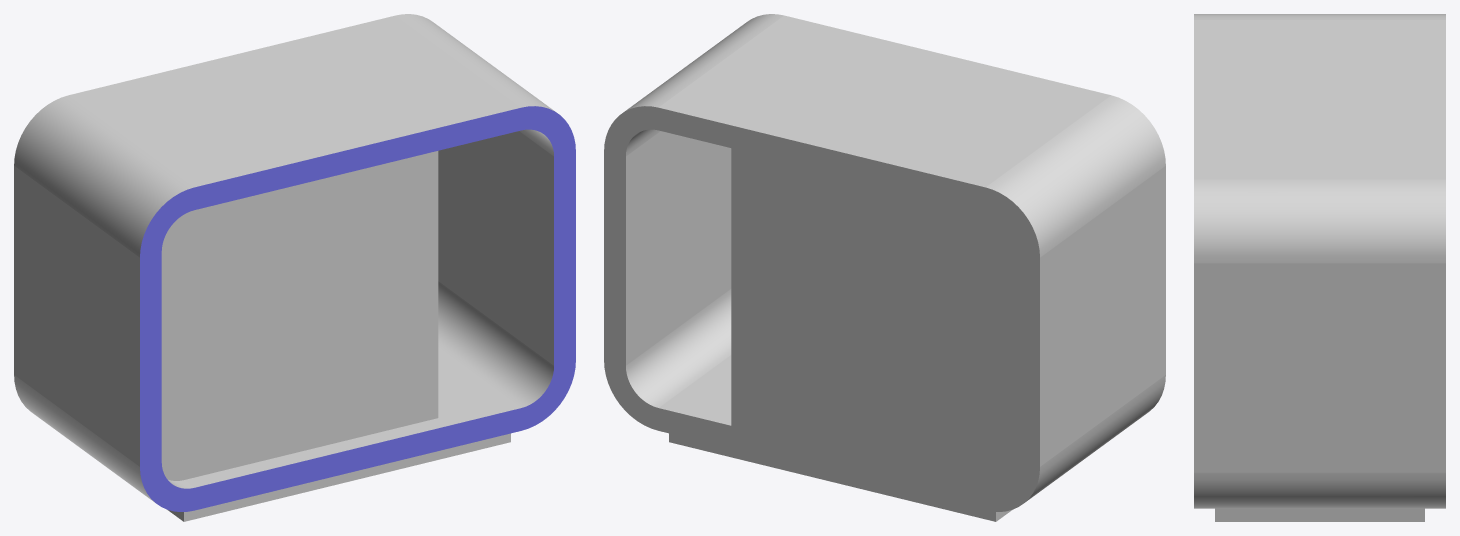
File: counter-set-02-05.glb
3 renders of one model, left to right at view 1: azimuth 30°, elevation 25°; view 2: azimuth 150°, elevation 25°; view 3: azimuth 270°, elevation 25°, orthographic.
Visible parts, largest first — view 1: 3DGeom-10, 3DGeom-11; view 2: 3DGeom-10; view 3: 3DGeom-10.
Part boxes in pixels (x1,y1,x2,y2): 3DGeom-10: (14, 14, 556, 521); 3DGeom-11: (140, 106, 575, 511); 3DGeom-10: (604, 14, 1165, 521); 3DGeom-10: (1194, 14, 1445, 521).
Size of the model in its own units: 1.2 by 0.9 by 0.6.
